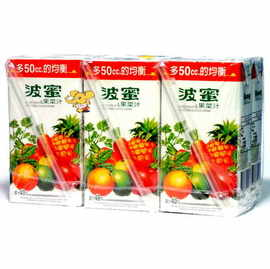vegetables juice: (82, 49, 160, 224), (6, 46, 84, 221), (160, 58, 241, 221)
